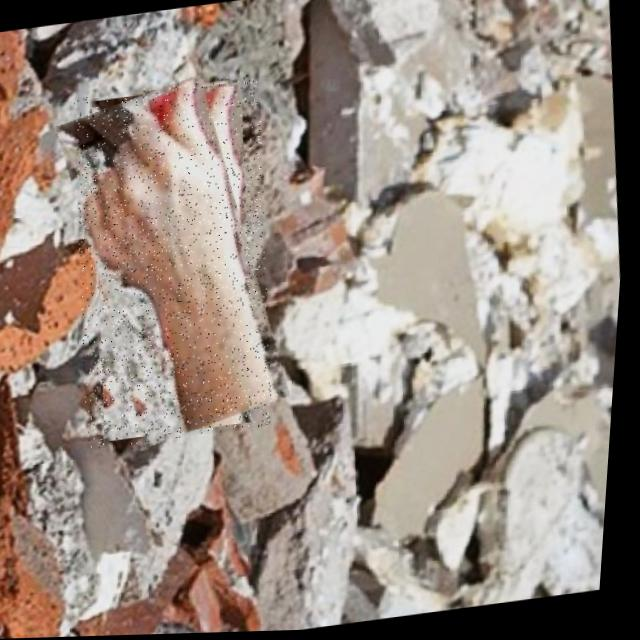Person in Rubble: (55, 74, 295, 451)
